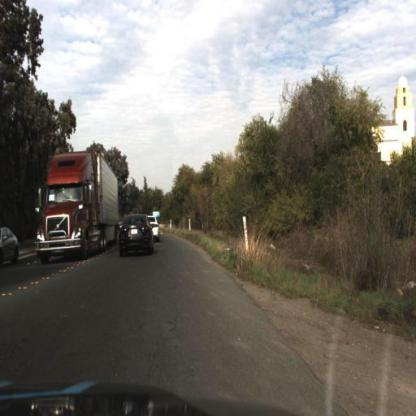car: (117, 211, 157, 257), (146, 204, 171, 246), (1, 228, 20, 271), (151, 215, 164, 241)
truck: (38, 153, 121, 263)
